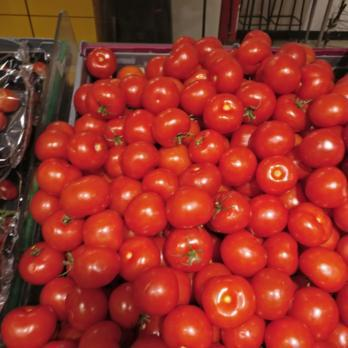Tomato: (78, 38, 348, 348), (33, 130, 80, 348)
